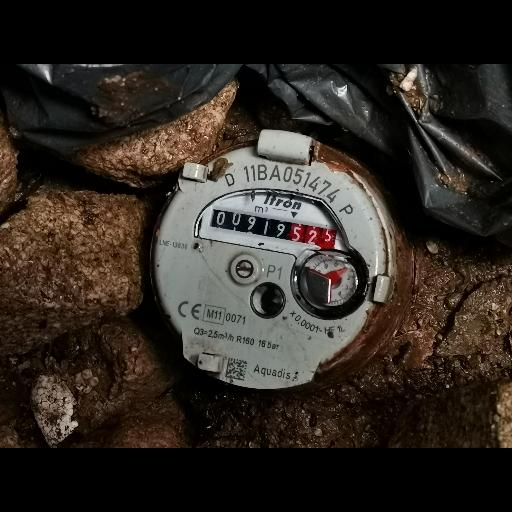0: (214, 209, 229, 229), (229, 212, 244, 232)
1: (259, 217, 273, 237)
2: (306, 226, 323, 247)
5: (320, 229, 336, 250), (289, 222, 305, 242)
9: (273, 220, 289, 241), (244, 214, 259, 234)
border_water_meter_number: (192, 195, 348, 263)
